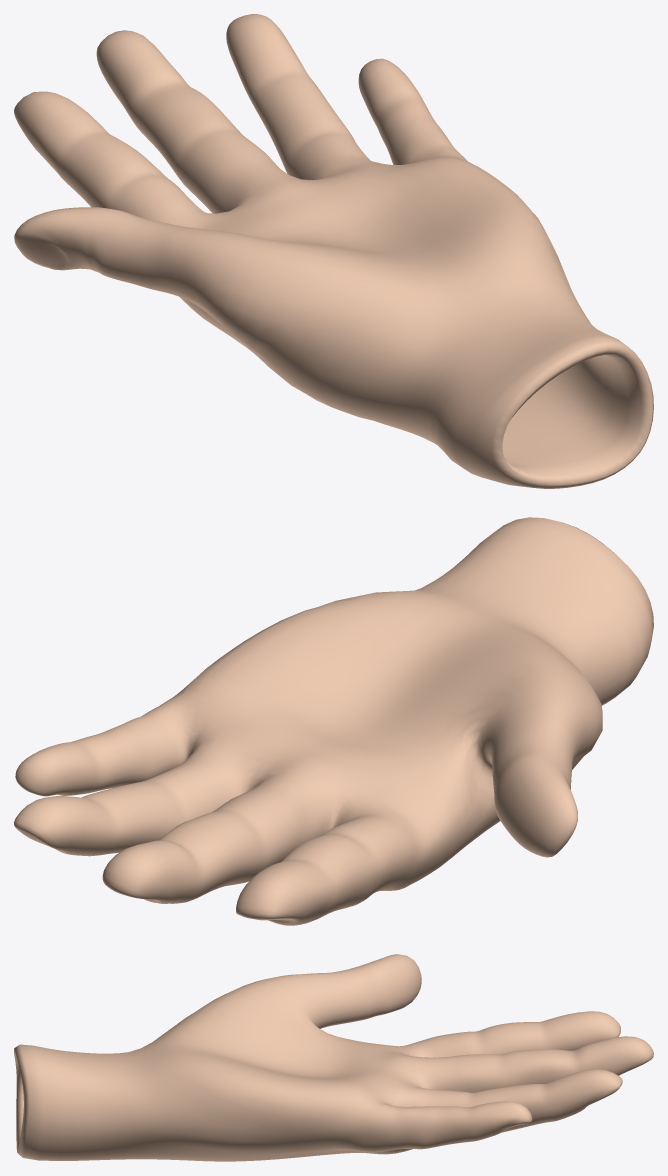
Rendered from hand.fbx.
The picture shows the model from 3 angles, top to bottom: view 1: azimuth 30°, elevation 25°; view 2: azimuth 150°, elevation 25°; view 3: azimuth 270°, elevation 25°; orthographic projection. The views are drawn at different scales.
Parts seen in each view (by area): view 1: theooo-base.001; view 2: theooo-base.001; view 3: theooo-base.001.
Part boxes in pixels (<box>): theooo-base.001: <box>14,14,653,488</box>; theooo-base.001: <box>14,517,653,925</box>; theooo-base.001: <box>14,954,653,1161</box>.
Bounding box in the file's own units: 4.93 × 1.75 × 8.45.
